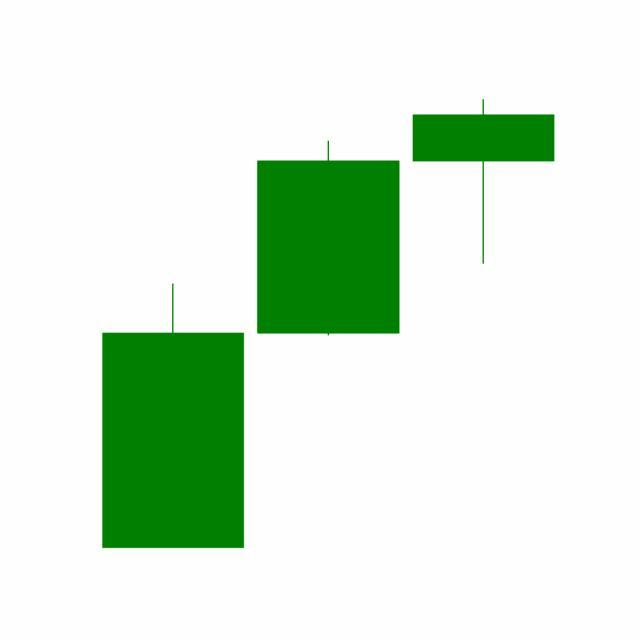Hanging Man: (406, 98, 562, 267)
